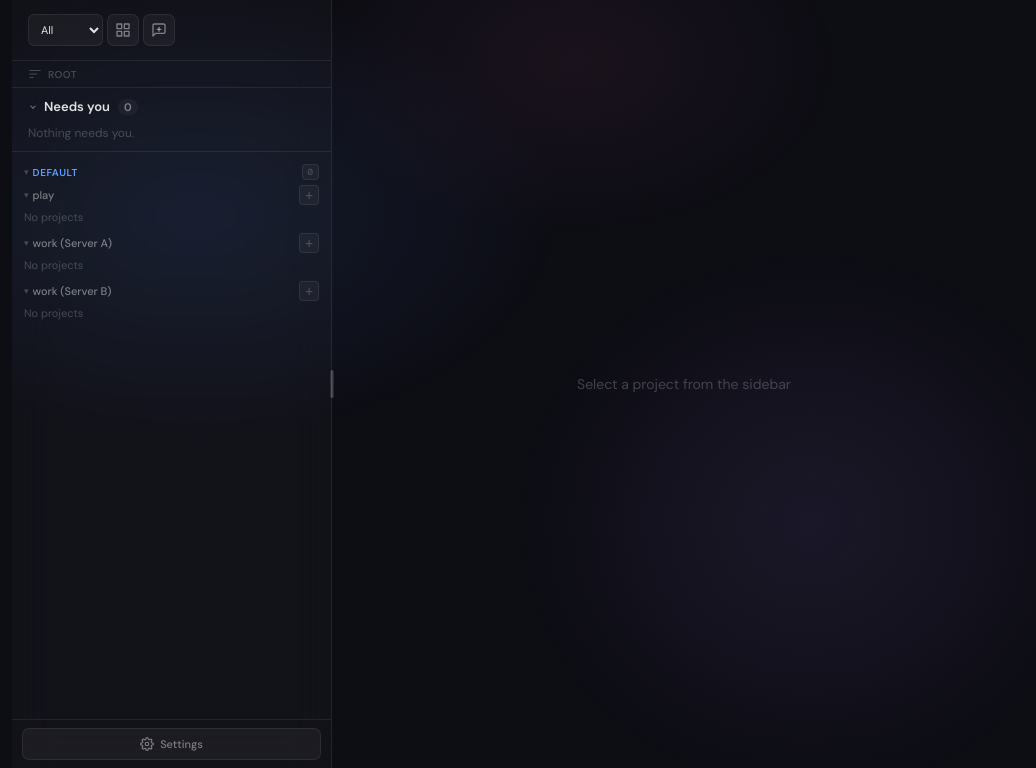
Test: a root's + › work (Server B) opens Create project on that server and root
The width and height of the screenshot is (1036, 768).
Step 1. Click the 3rd button with class "root-action-btn" → {"x": 309, "y": 291}, box x1=299 y1=281 x2=319 y2=301
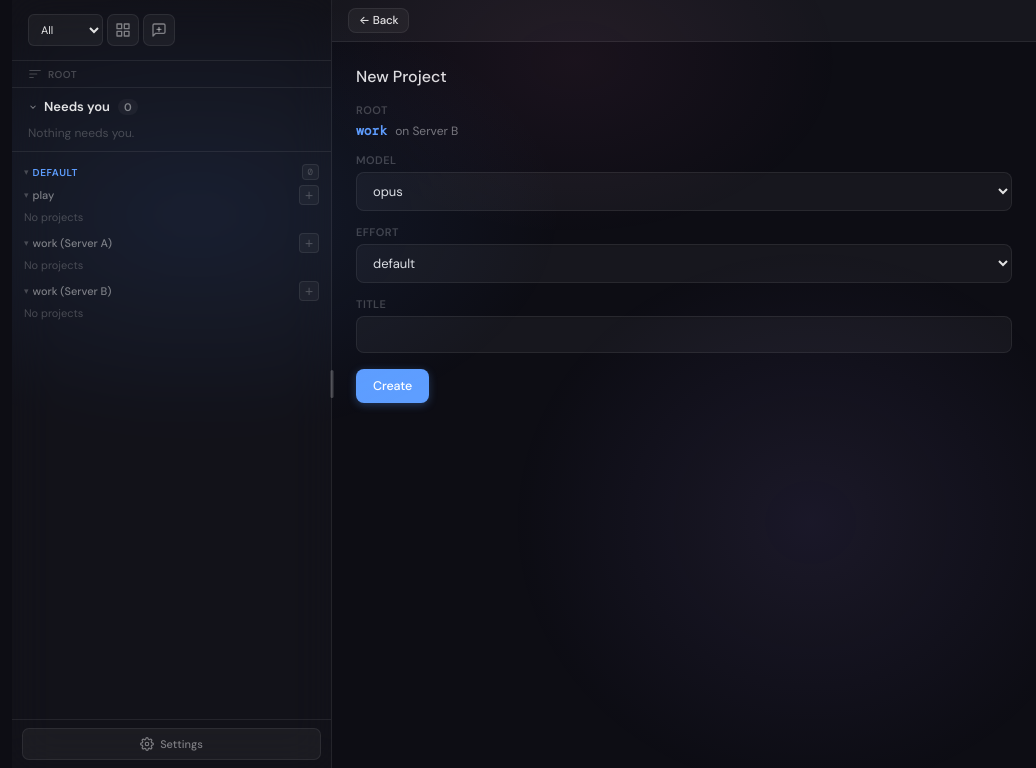
Result: the text with class "selected-root-name" reads "work" at x1=356 y1=122 x2=387 y2=139
Result: the text with class "selected-root-server" reads "on Server B" at x1=395 y1=122 x2=458 y2=138
